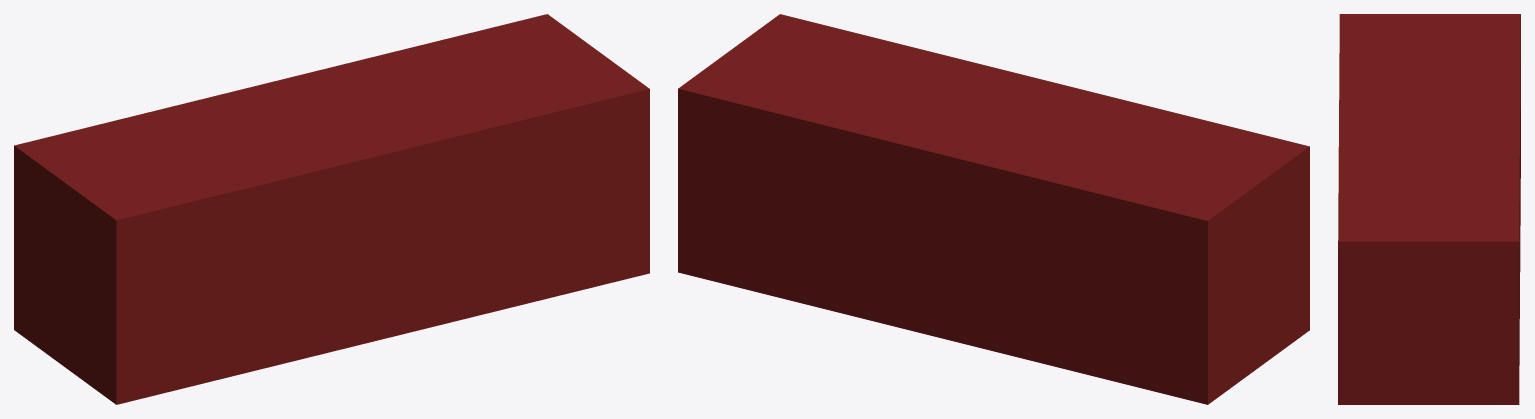
Rendered from Container_Low.fbx.
3 views of the same model, side by side, from view 1: azimuth 30°, elevation 25°; view 2: azimuth 150°, elevation 25°; view 3: azimuth 270°, elevation 25° (orthographic). The views are drawn at different scales.
Visible parts, largest first — view 1: Cube.121; view 2: Cube.121; view 3: Cube.121.
Part boxes in pixels (box(x1,y1,x2,y2)): Cube.121: box(14, 14, 649, 404); Cube.121: box(678, 14, 1309, 404); Cube.121: box(1338, 14, 1520, 404).
Size of the model in its own units: 1905 by 639 by 640.
